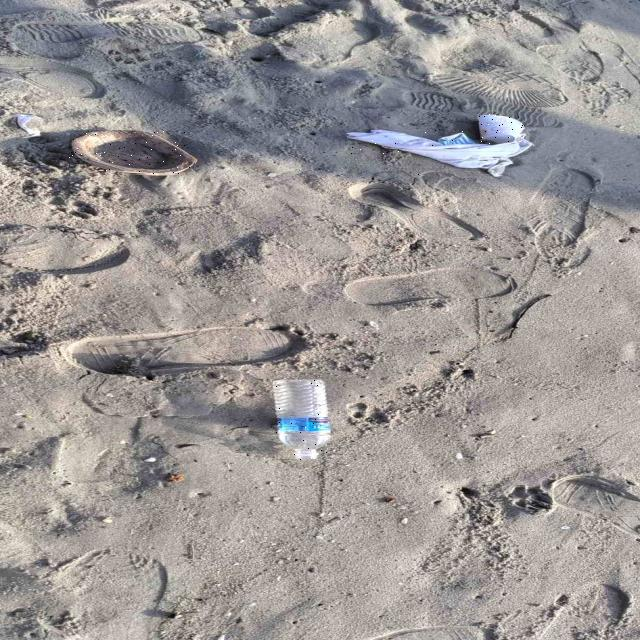biowaste: (70, 131, 195, 174)
other: (347, 130, 533, 175)
paper: (477, 115, 524, 144)
plastic: (273, 381, 329, 460)
